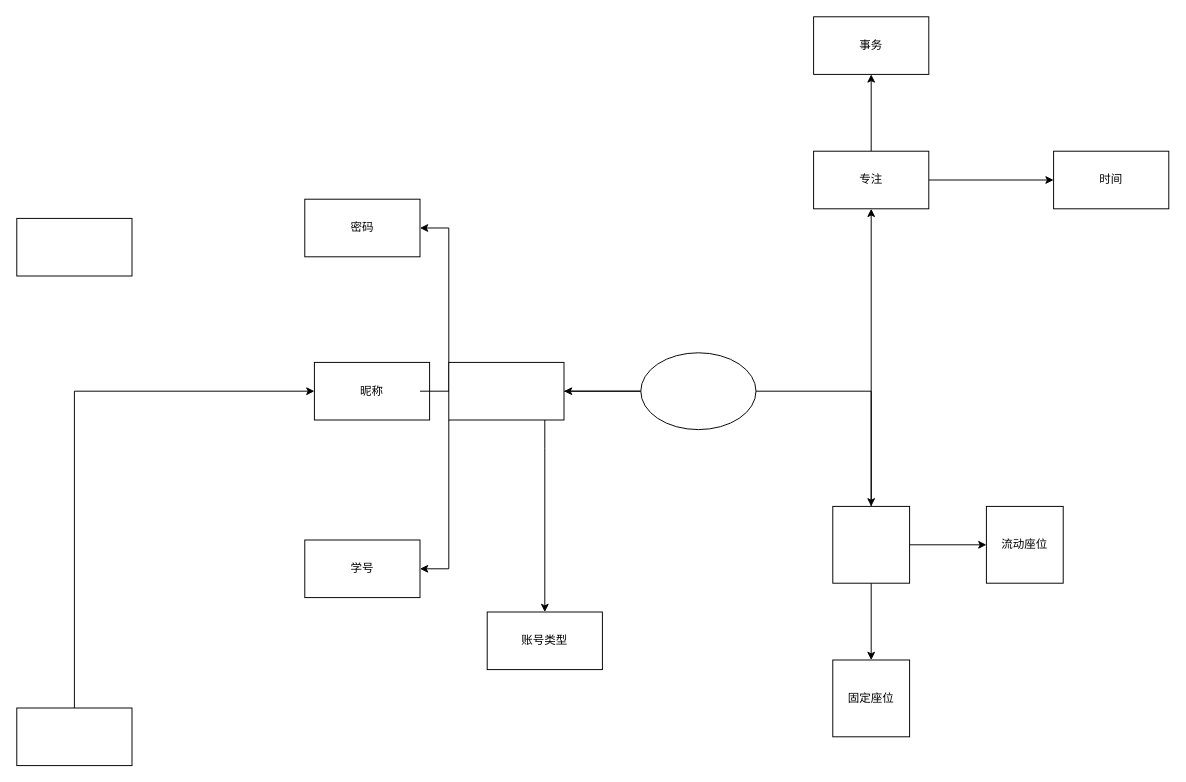
This 1186x782 diagram has some shape labels left out. The shapes that lost their labels are listed below. From the top down, each one's centre as x and y in pixels, then its label:
pixel 74 246: 真名
pixel 506 390: 普通成员
pixel 698 391: 用户
pixel 871 544: 打卡
pixel 74 736: 签名
